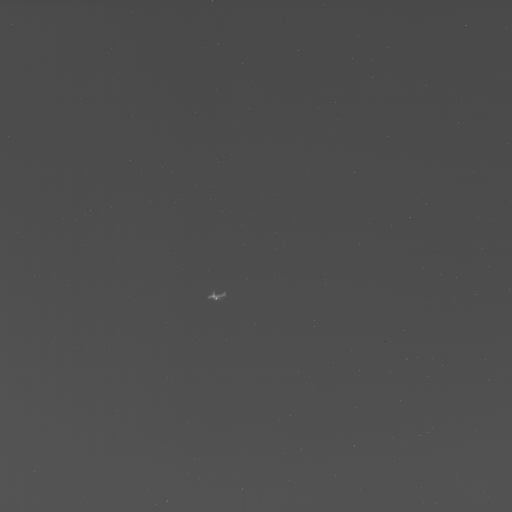Target: (208, 291, 228, 302)
